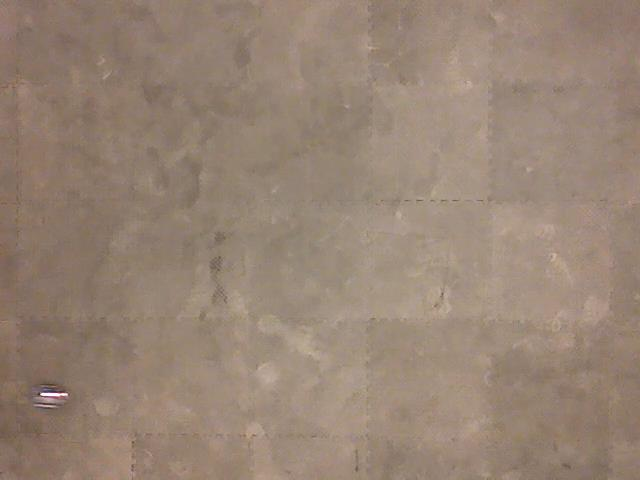Agent: (27, 382, 73, 413)
